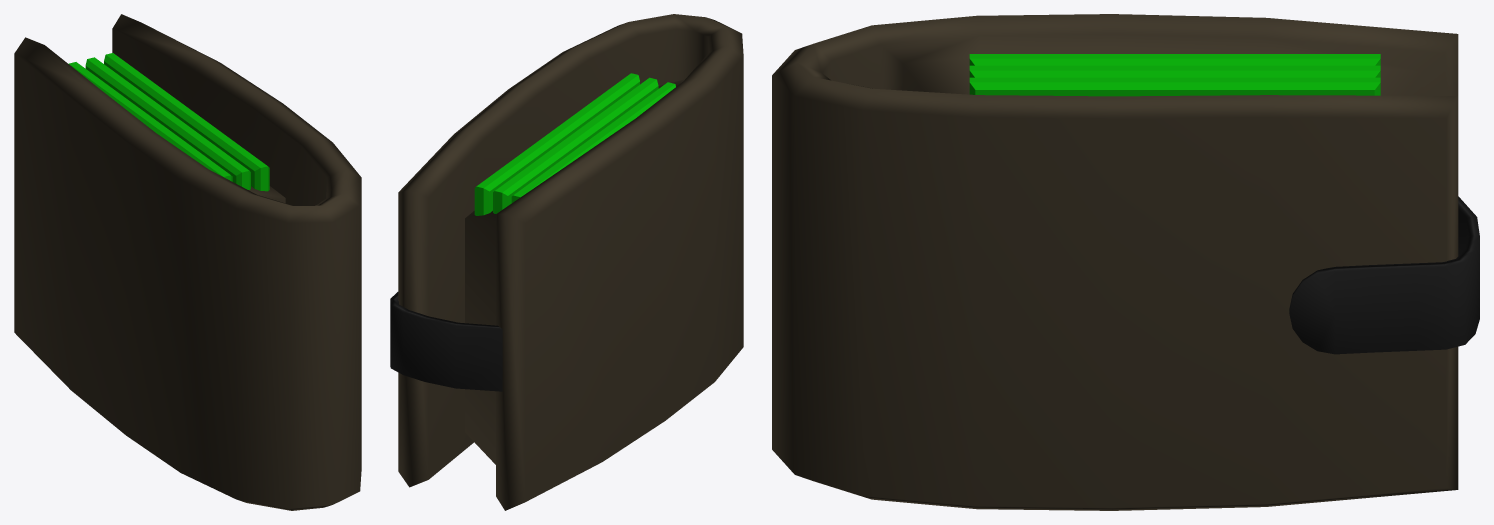
Rendered from SM_Wallet.fbx.
3 renders of one model, left to right at view 1: azimuth 30°, elevation 25°; view 2: azimuth 150°, elevation 25°; view 3: azimuth 270°, elevation 25°, orthographic. The views are drawn at different scales.
Parts seen in each view (by area): view 1: Wallet, pCube5; view 2: Wallet, pCube5, pCylinder5; view 3: Wallet, pCube5, pCylinder5.
Boxes of the visible parts, left/top/right/bottom form: Wallet: left=14, top=14, right=361, bottom=510; pCube5: left=69, top=53, right=269, bottom=191; Wallet: left=398, top=14, right=743, bottom=510; pCube5: left=474, top=73, right=675, bottom=215; pCylinder5: left=390, top=292, right=502, bottom=391; Wallet: left=772, top=14, right=1458, bottom=510; pCube5: left=969, top=54, right=1380, bottom=96; pCylinder5: left=1289, top=196, right=1479, bottom=354.
Bounding box in the file's own units: 10.54 × 20.05 × 31.02.
